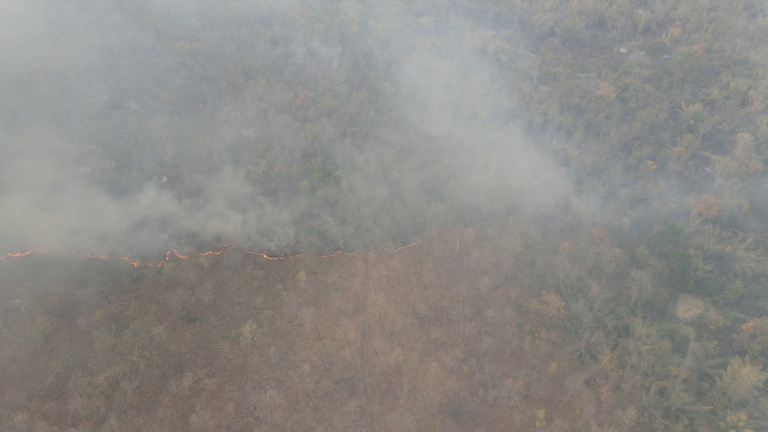fire: (1, 222, 486, 270)
smoke: (1, 1, 540, 267), (539, 1, 757, 233)
